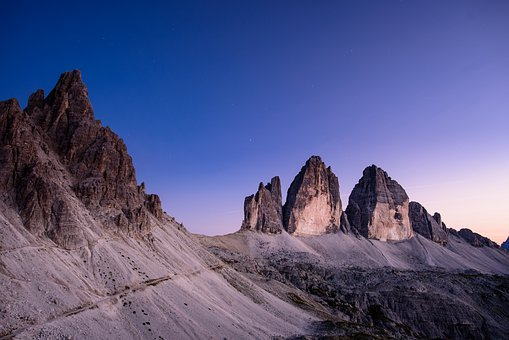mountain: (23, 79, 509, 337)
sky: (93, 10, 509, 160)
